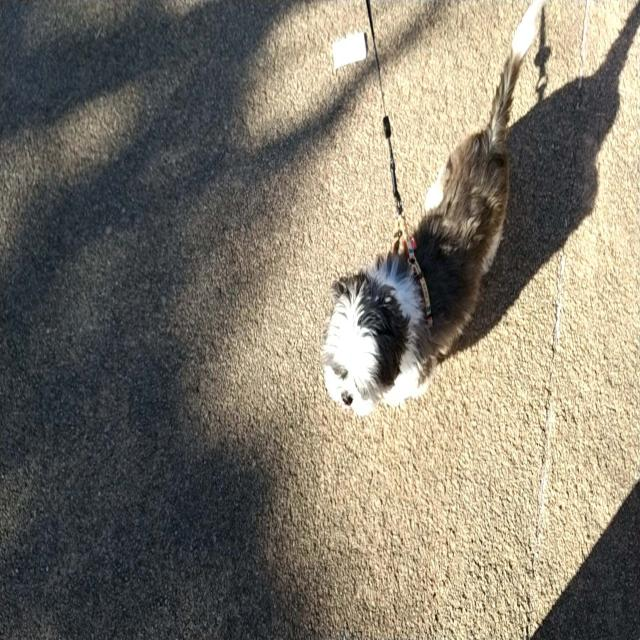Dog: (320, 0, 544, 417)
